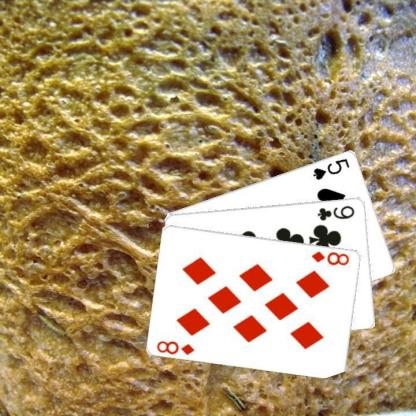5S: (311, 155, 351, 181)
8D: (309, 248, 351, 267), (154, 337, 196, 356)
9C: (315, 202, 356, 222)
